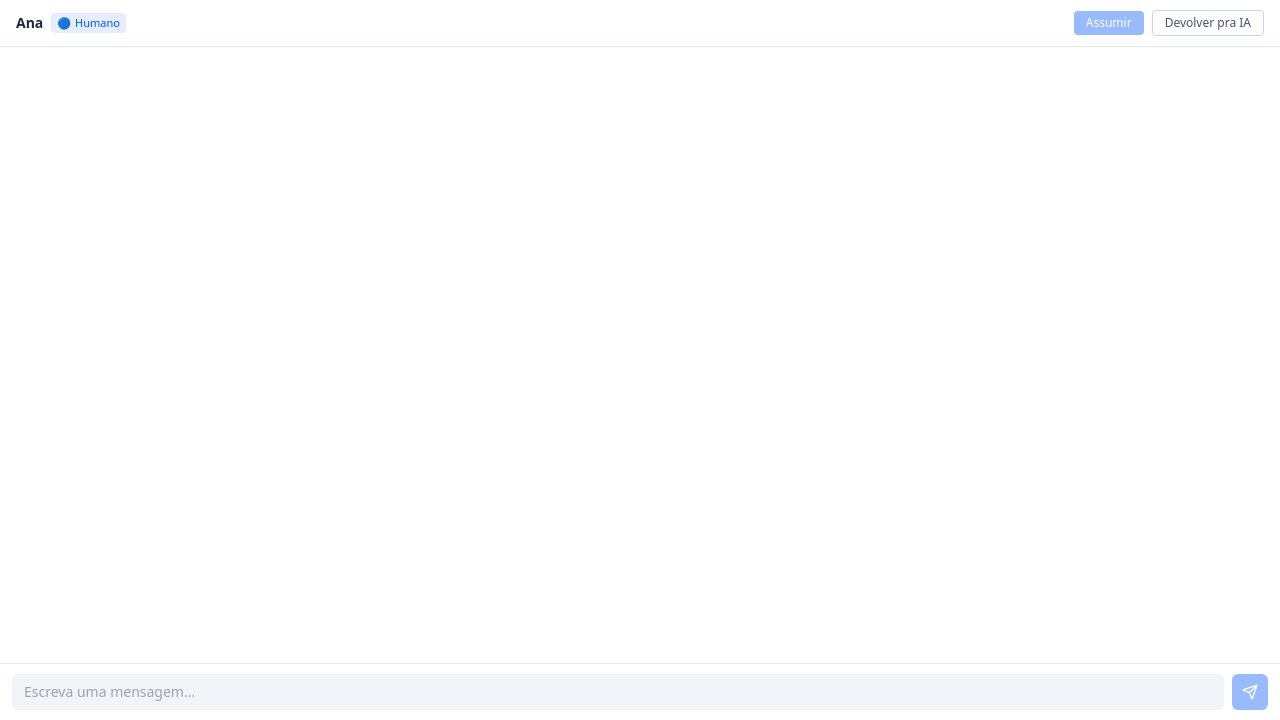
Test: human + open window → composer is usable and a message can be sent
Check: the text "Ana" is shown, box x1=16 y1=13 x2=43 y2=33
Type "oi do operador" into the text box with test id "composer-input".
click(618, 692); type("oi do operador")  # box x1=12 y1=674 x2=1224 y2=710
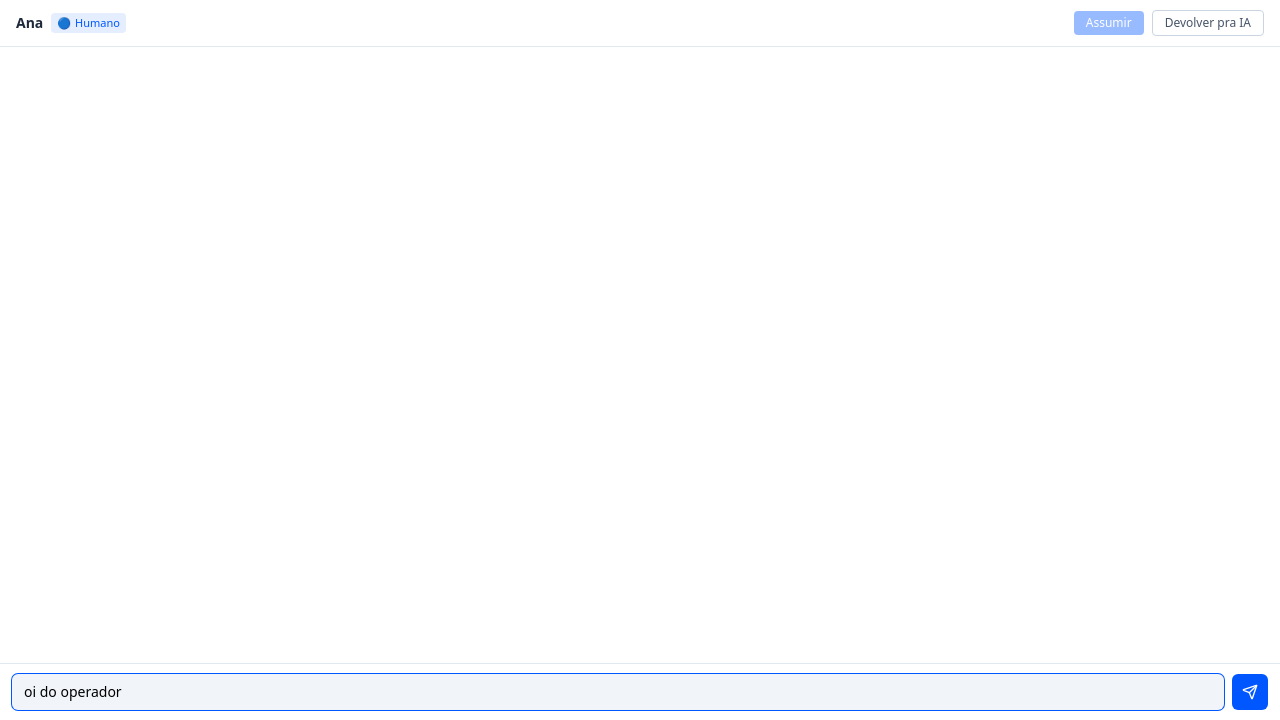
// optimistic pending bubble shows immediately ("enviando…")
Click the button with test id "composer-send".
click(1250, 692)  # box x1=1232 y1=674 x2=1268 y2=710
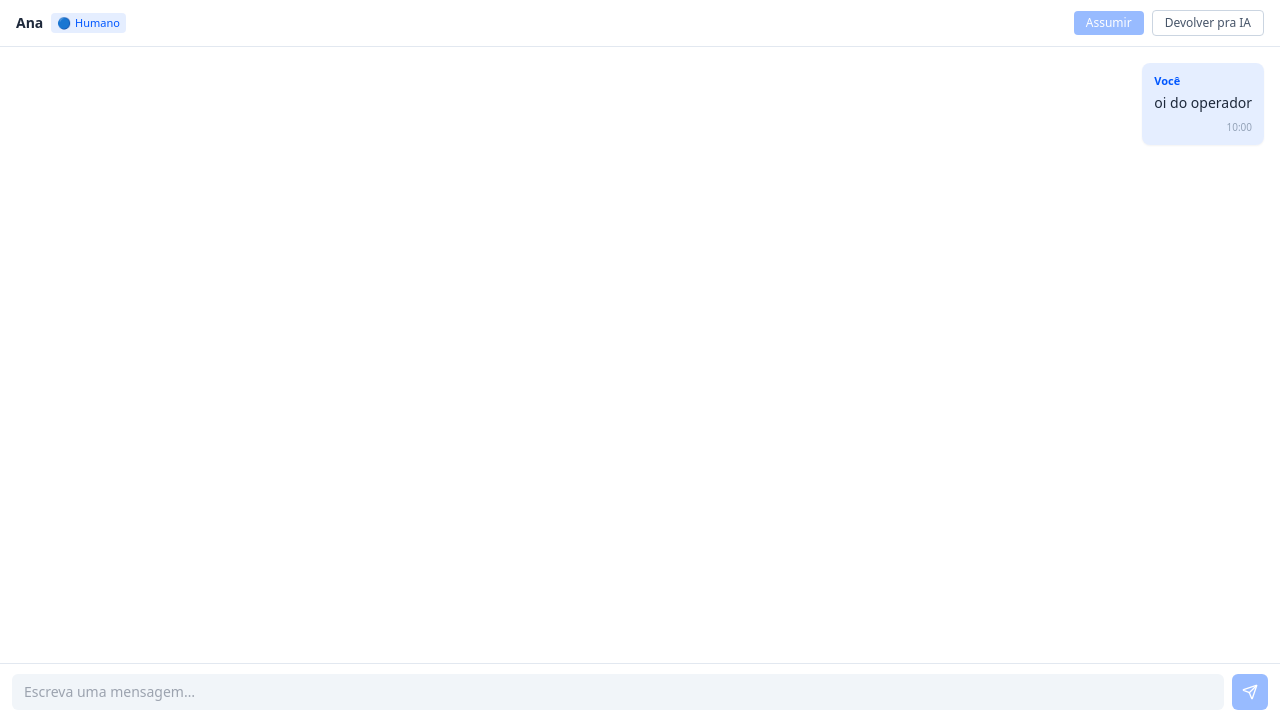
Check: the text "oi do operador" is shown once, box x1=1154 y1=93 x2=1252 y2=113
